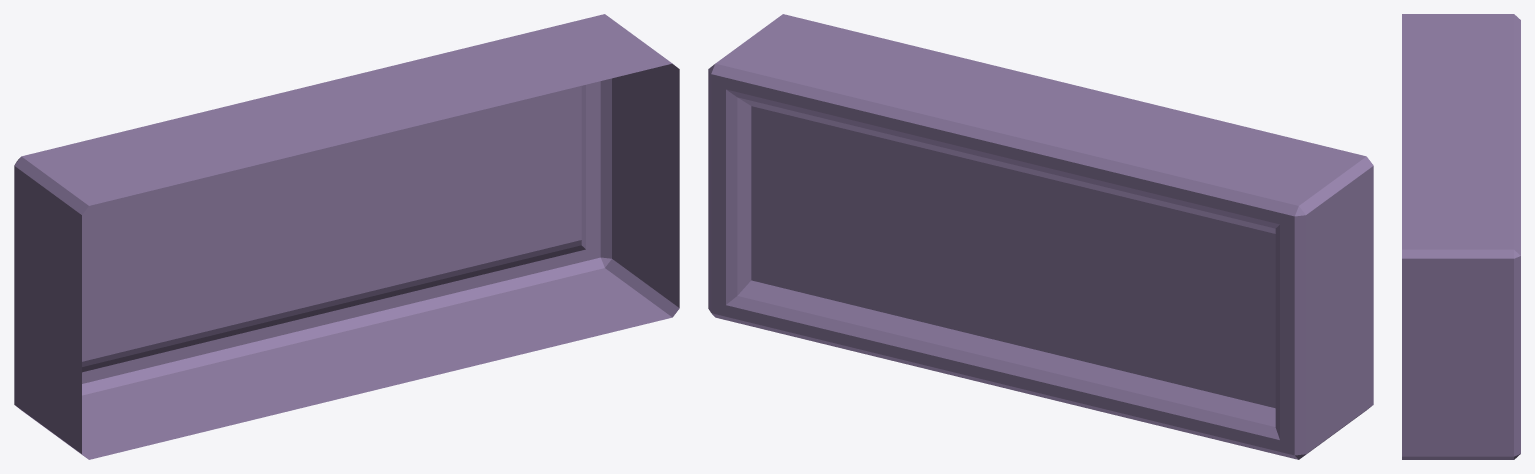
Rendered from clock.fbx.
The picture shows the model from 3 angles, left to right: view 1: azimuth 30°, elevation 25°; view 2: azimuth 150°, elevation 25°; view 3: azimuth 270°, elevation 25°; orthographic projection. The views are drawn at different scales.
Visible parts, largest first — view 1: pCube2; view 2: pCube2; view 3: pCube2.
Part boxes in pixels (box(x1,y1,x2,y2)): pCube2: box(14, 14, 679, 459); pCube2: box(708, 14, 1373, 459); pCube2: box(1402, 14, 1520, 459).
Bounding box in the file's own units: 61.63 × 25.02 × 12.83.
